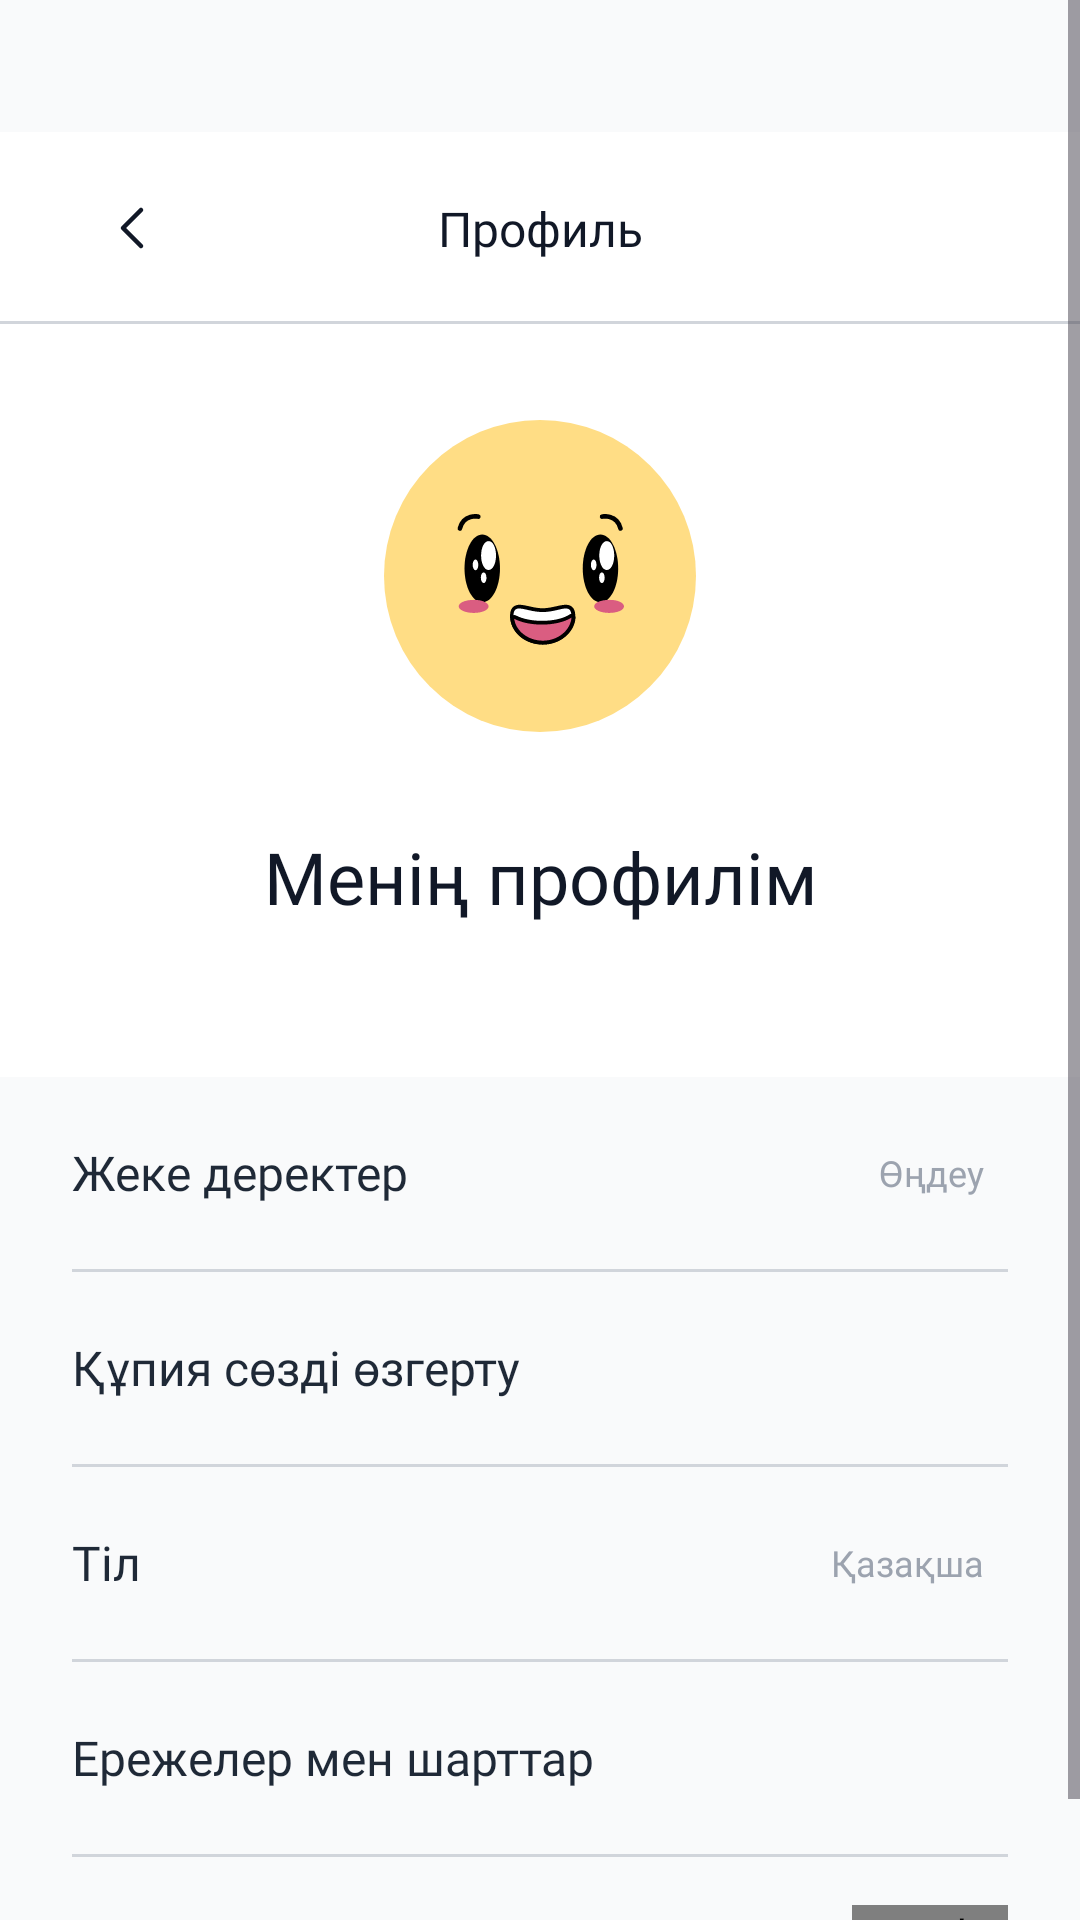

Screen size 1080 × 1920. Icon name, then its box in pixels as (x1, y1, x2, y2):
back toolbar: (120, 207, 144, 249)
profile: (384, 420, 696, 732)
